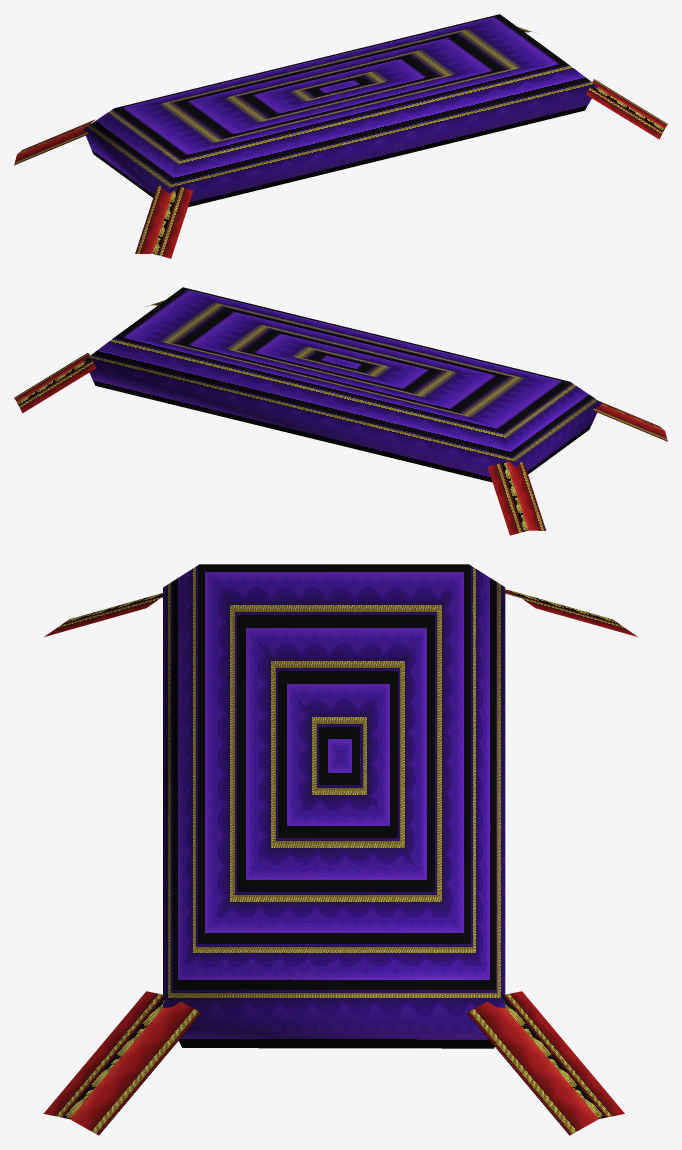
Rendered from cake_sara.gltf.
3 renders of one model, top to bottom at view 1: azimuth 30°, elevation 25°; view 2: azimuth 150°, elevation 25°; view 3: azimuth 270°, elevation 25°, orthographic. The views are drawn at different scales.
Visible parts, largest first — view 1: cake_sara; view 2: cake_sara; view 3: cake_sara.
Part boxes in pixels (box(x1,y1,x2,y2)): cake_sara: box(14, 14, 667, 258); cake_sara: box(14, 287, 667, 535); cake_sara: box(43, 564, 637, 1135).
Bounding box in the file's own units: 1.18 × 0.1289 × 0.5728.
Materials: 2 (2 with a texture image).
